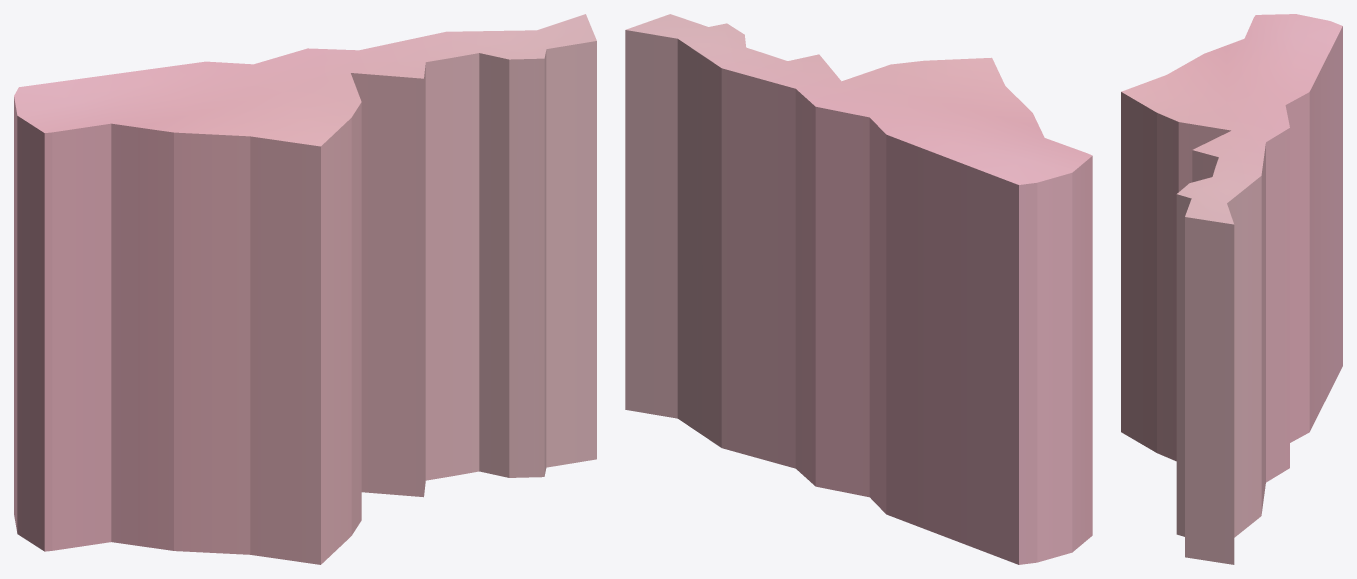
File: atlantic highlands.glb
The picture shows the model from 3 angles, left to right: view 1: azimuth 30°, elevation 25°; view 2: azimuth 150°, elevation 25°; view 3: azimuth 270°, elevation 25°; orthographic projection. The views are drawn at different scales.
Parts seen in each view (by area): view 1: Plane.062; view 2: Plane.062; view 3: Plane.062.
Part boxes in pixels (x1,y1,x2,y2): Plane.062: [14, 14, 596, 564]; Plane.062: [625, 14, 1092, 564]; Plane.062: [1121, 14, 1342, 564].
Bounding box in the file's own units: 0.5116 × 0.3856 × 0.2277.
1 material, 1 textured.
